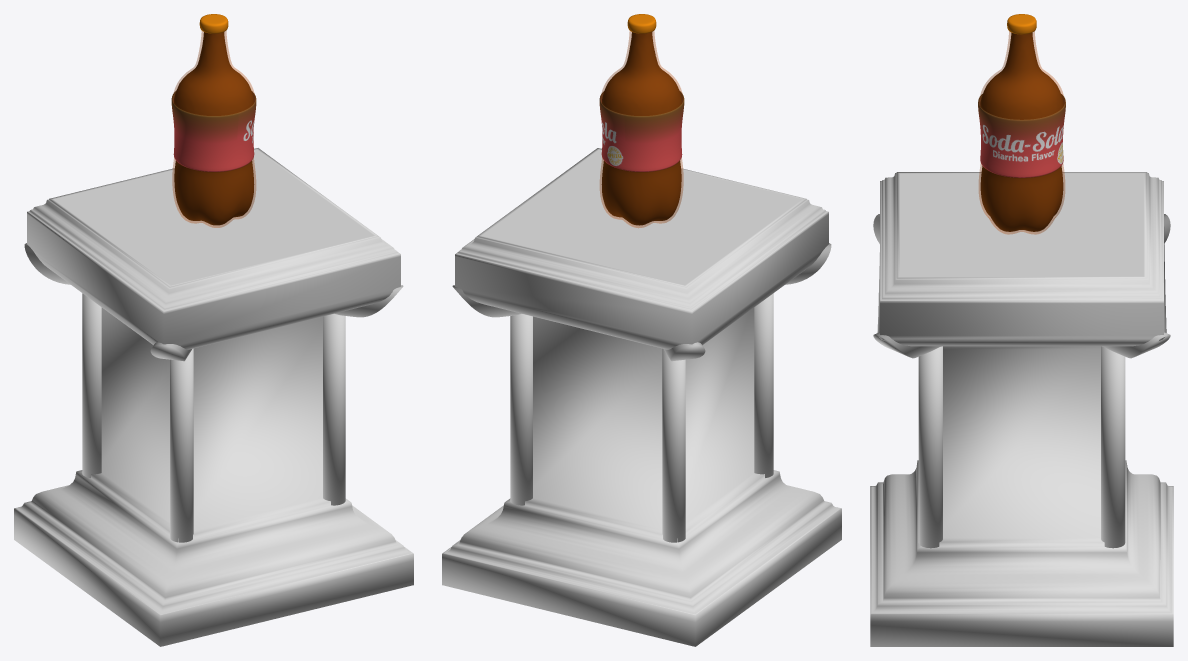
Rendered from poobottle.glb.
The picture shows the model from 3 angles, left to right: view 1: azimuth 30°, elevation 25°; view 2: azimuth 150°, elevation 25°; view 3: azimuth 270°, elevation 25°; orthographic projection. The views are drawn at different scales.
Parts seen in each view (by area): view 1: pedestal, bottle, liquid; view 2: pedestal, bottle, liquid; view 3: pedestal, bottle, liquid, cap.
Boxes of the visible parts, x1=… form: pedestal: x1=14, y1=148, x2=413, y2=646; bottle: x1=171, y1=31, x2=256, y2=227; liquid: x1=174, y1=32, x2=254, y2=225; pedestal: x1=442, y1=148, x2=841, y2=646; bottle: x1=599, y1=31, x2=684, y2=227; liquid: x1=601, y1=32, x2=681, y2=225; pedestal: x1=870, y1=172, x2=1173, y2=646; bottle: x1=978, y1=31, x2=1065, y2=234; liquid: x1=980, y1=32, x2=1063, y2=231; cap: x1=1007, y1=14, x2=1036, y2=34.
Size of the model in its own units: 2 by 4.1 by 2.
Materials: 5 (1 with a texture image).
